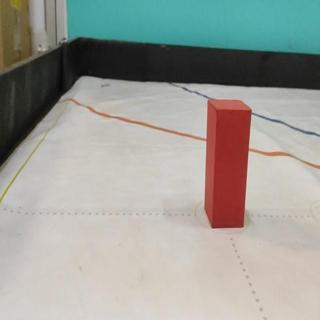redbox: (203, 98, 253, 228)
